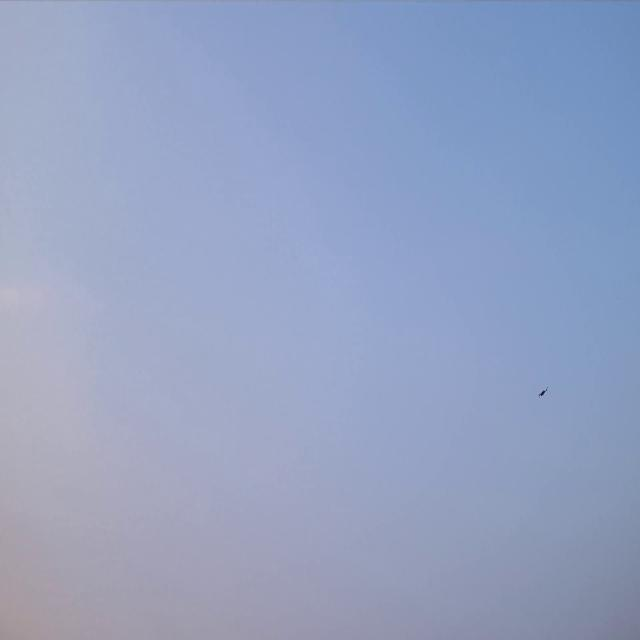UAV: (538, 386, 548, 400)
